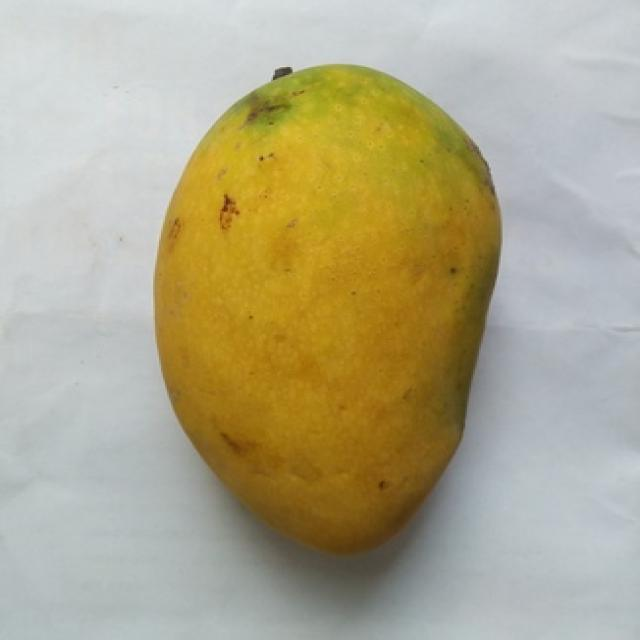Mango: (155, 65, 501, 552)
